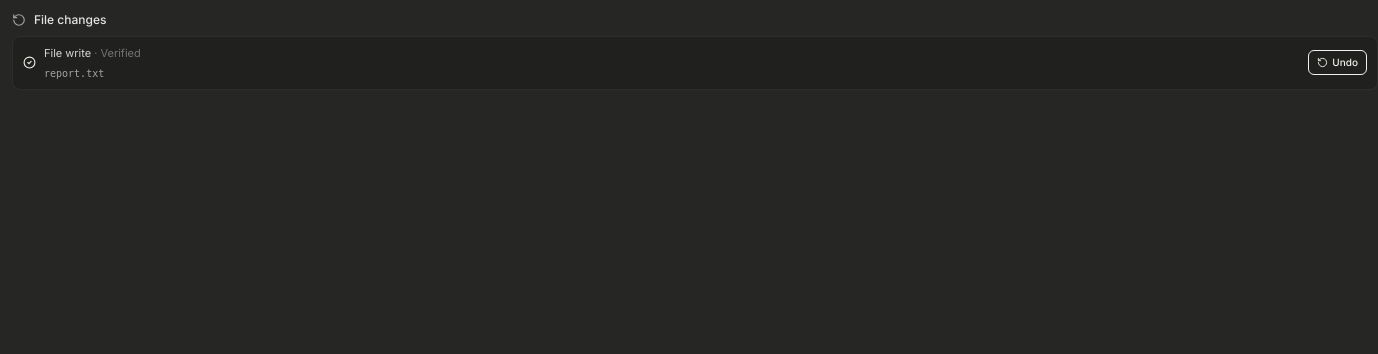
it: RecoveryPanel Undo controls › shows undo_conflict without claiming the file change was undone
What coordinates should you click on to do the following:
click the button "Undo"
I would click on:
 (1338, 63)
Its box is [1308,50,1367,75].
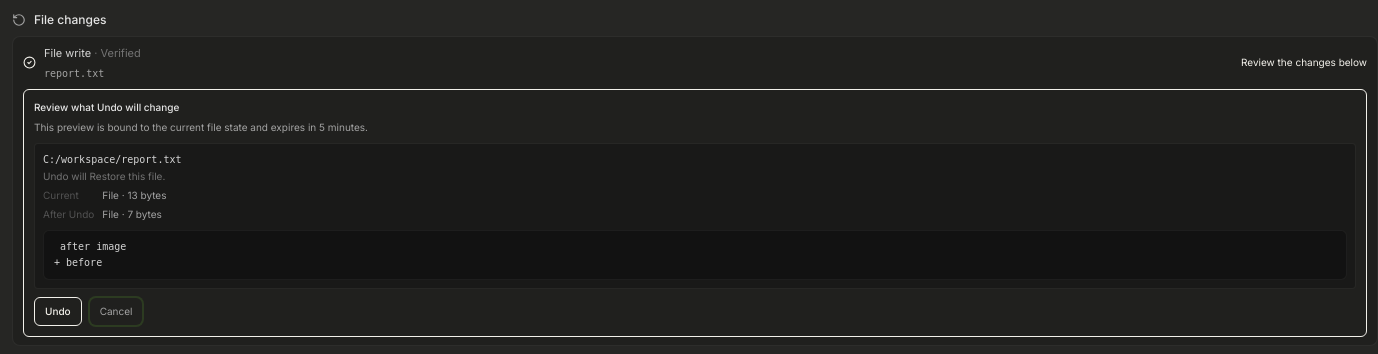
Expected: the element named "Undo confirmation preview" is shown
What coordinates should you click on to do the following:
click the button "Undo"
I would click on:
 (58, 312)
Its box is [34,297,82,326].
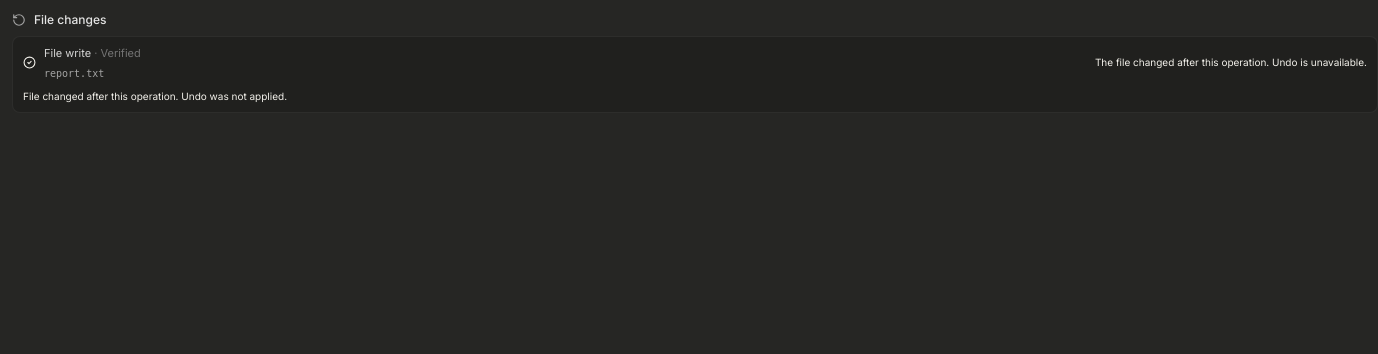
Expected: the text "File write" is shown, [44,46,91,60]
Expected: the message "File changed after this operation. Undo was not applied." is shown, [23,90,287,102]
